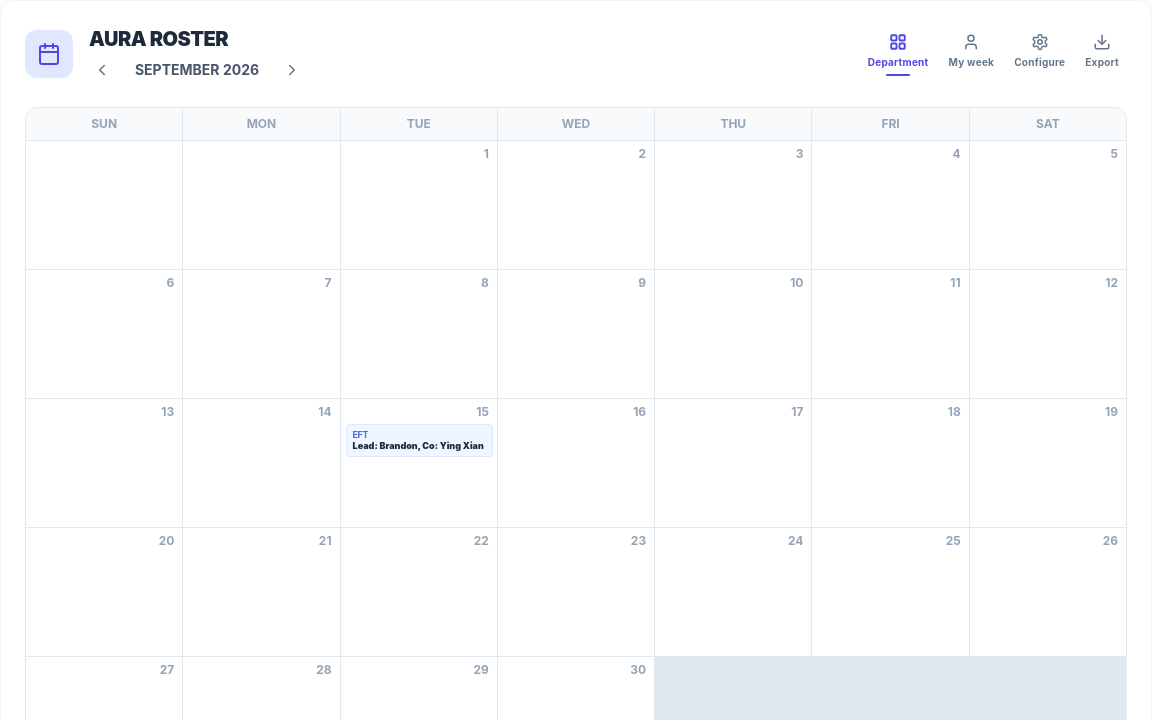
live mode raises no native dialog (P8.3) › reports a failed swap submission in a banner, dismissible by the user
Click the button "EFT Lead: Brandon, Co: Ying Xian": [419, 440] box top-left (346, 424), bottom-right (493, 456)
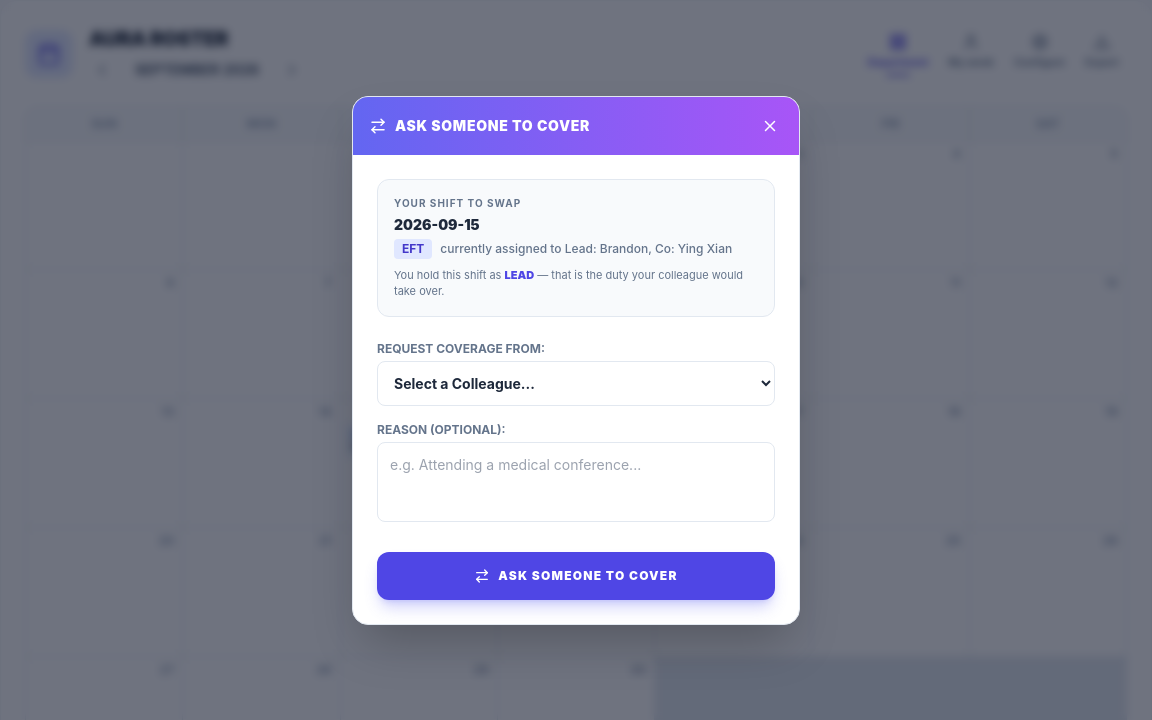
Select "Derlinder" in the dropdown: [576, 383] box top-left (377, 360), bottom-right (775, 406)
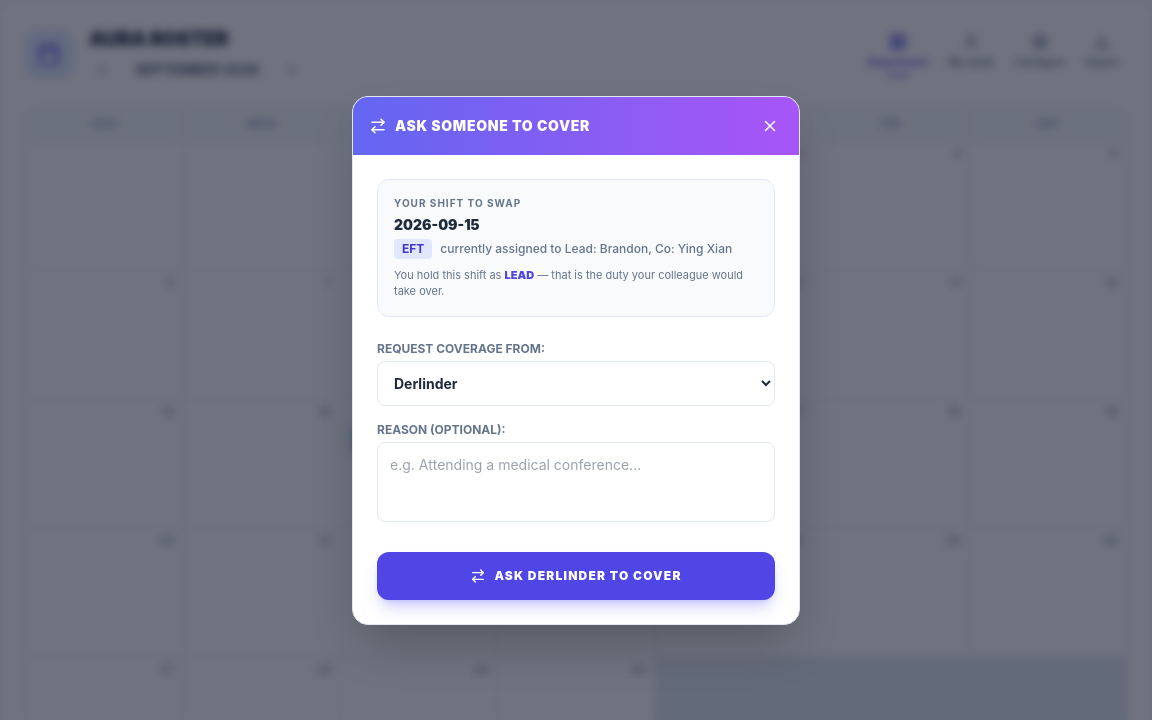
Click the button "Ask Derlinder to cover": [576, 576] box top-left (377, 552), bottom-right (775, 600)
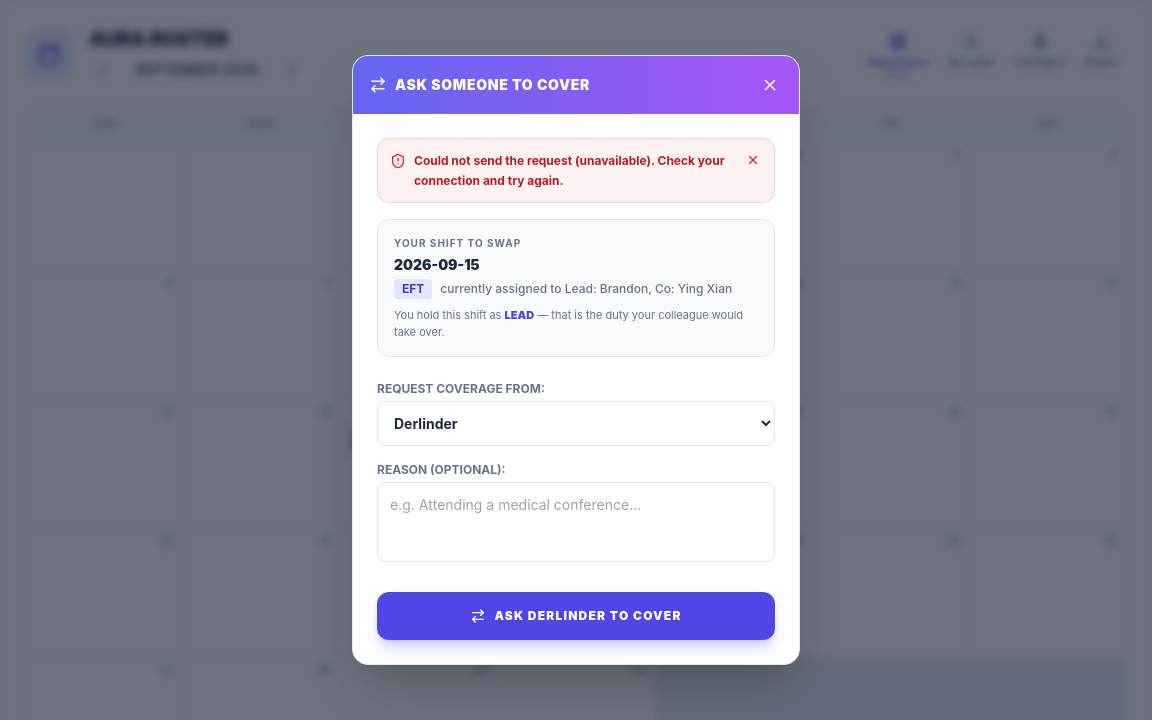
Expected: the text "unavailable" is shown, top-left (414, 153), bottom-right (725, 188)
Click the button named "dismiss message": [753, 160] box top-left (744, 151), bottom-right (762, 169)
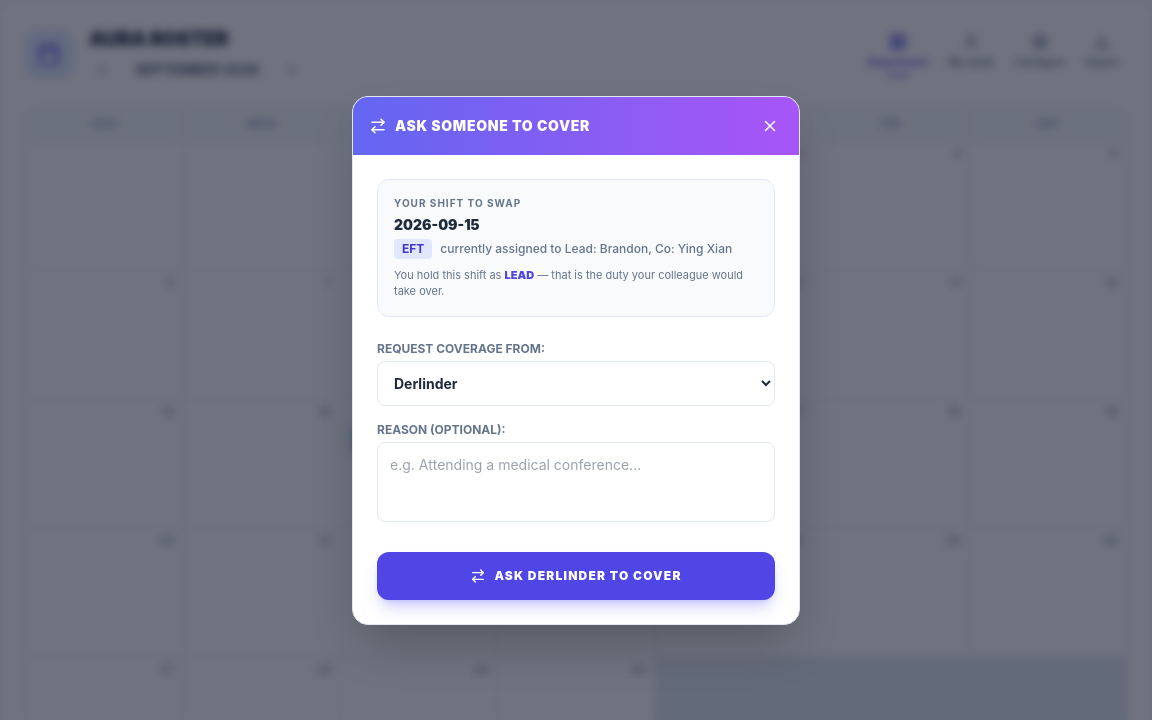
Expected: the text "Could not send the request" is gone
